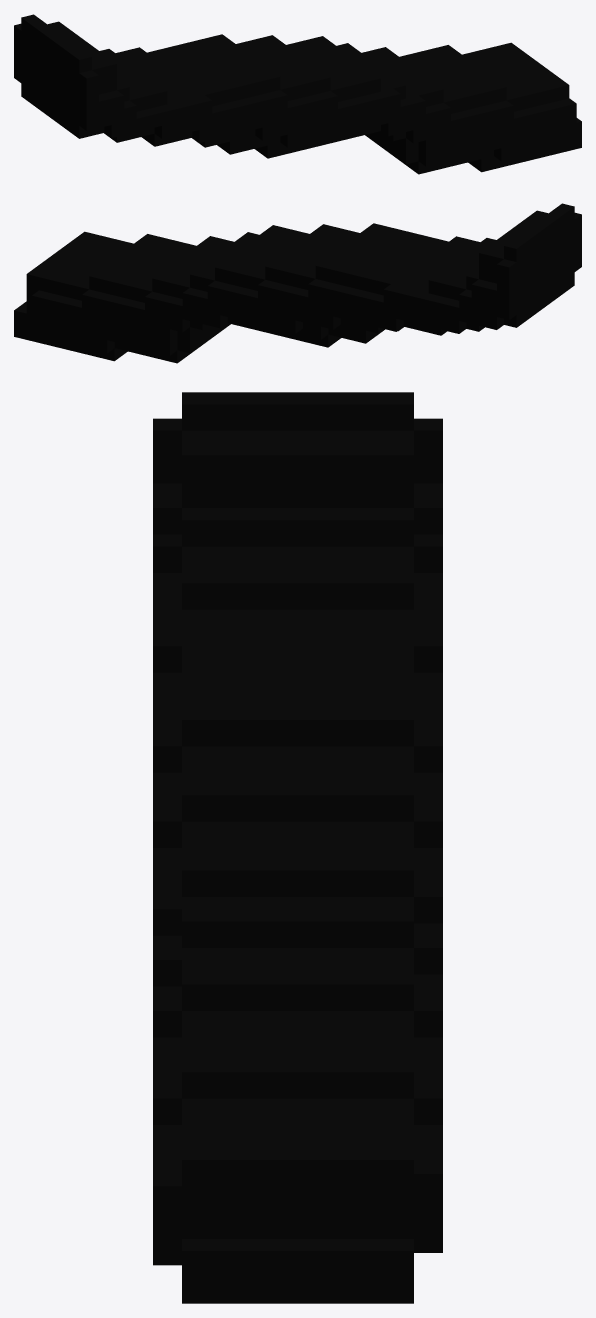
File: shadow_left_arm.obj
3 renders of one model, top to bottom at view 1: azimuth 30°, elevation 25°; view 2: azimuth 150°, elevation 25°; view 3: azimuth 270°, elevation 25°, orthographic. The views are drawn at different scales.
Size of the model in its own units: 4 by 1.6 by 1.
Materials: 1 (1 with a texture image).
